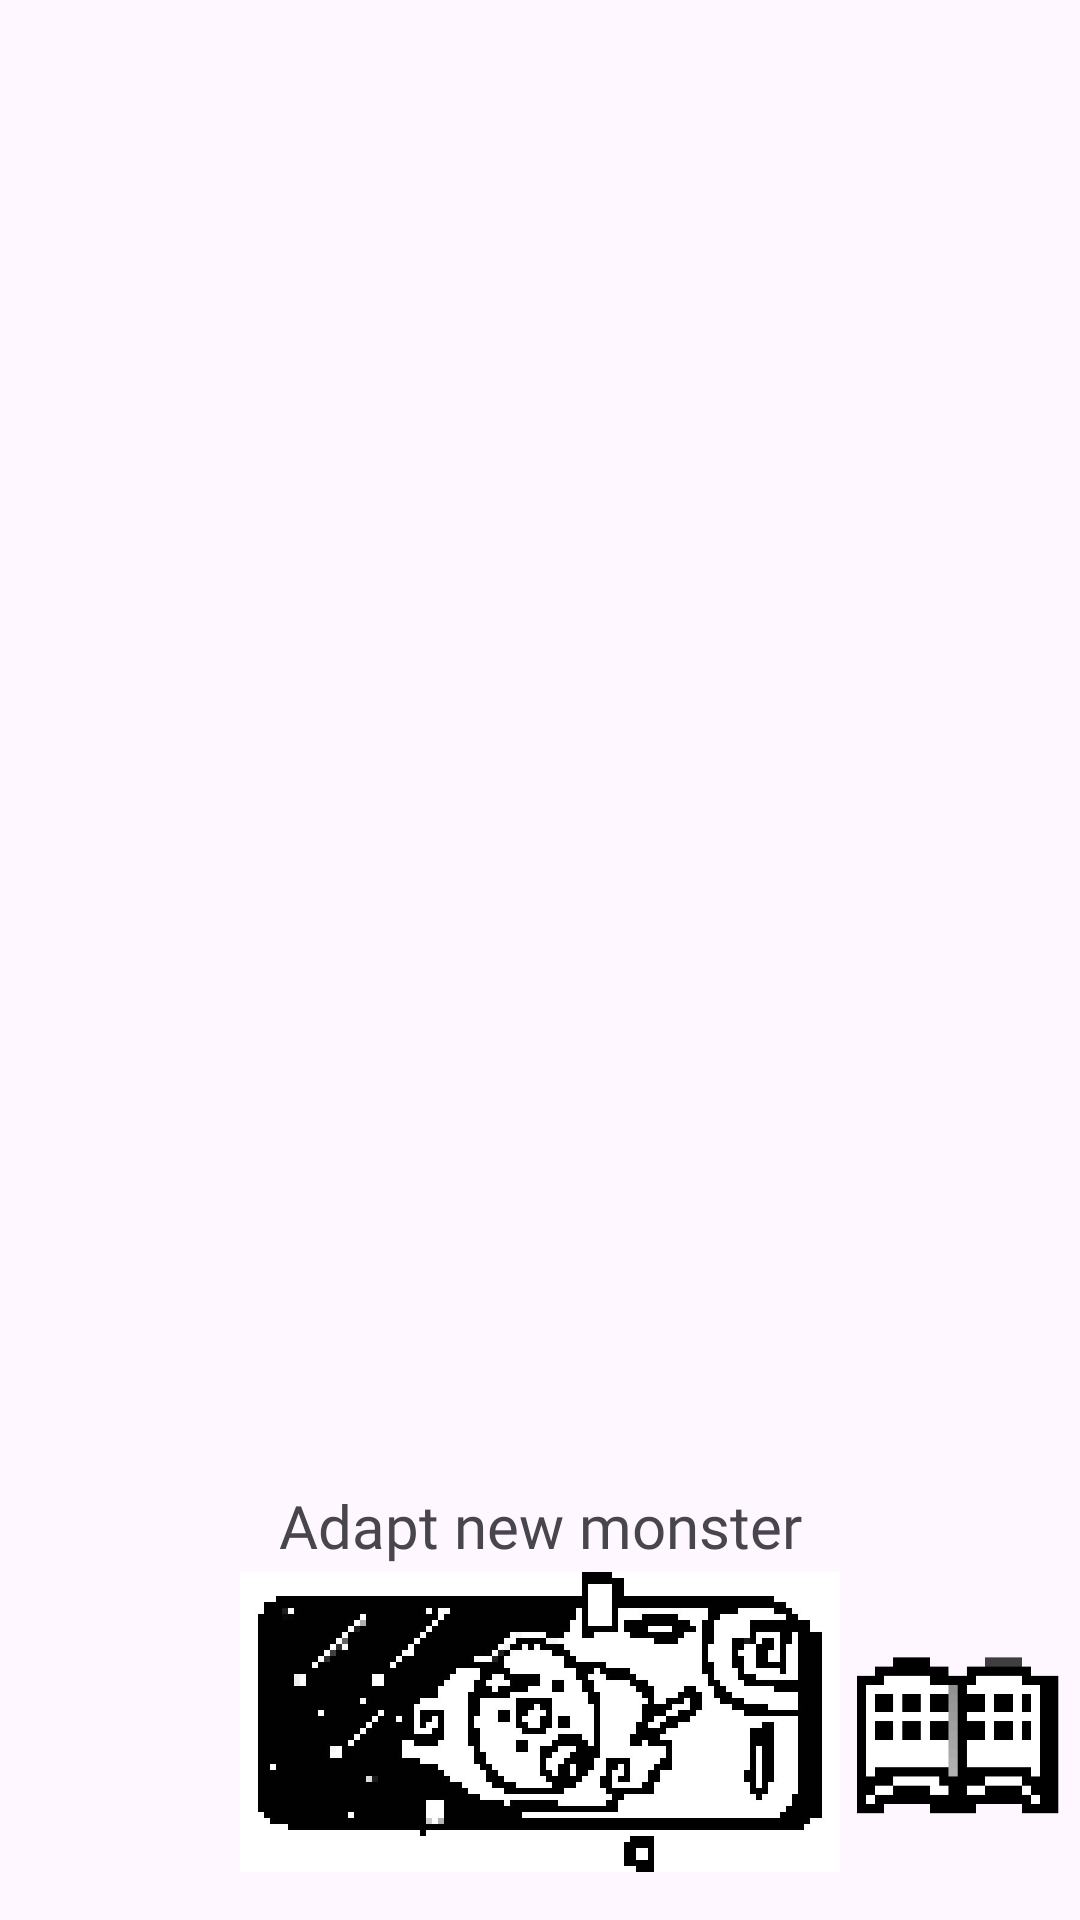

Point at icon controls on the screen. Image size 1080px×1920px, points as (x=x, y=y).
monster index: (x=958, y=1735)
